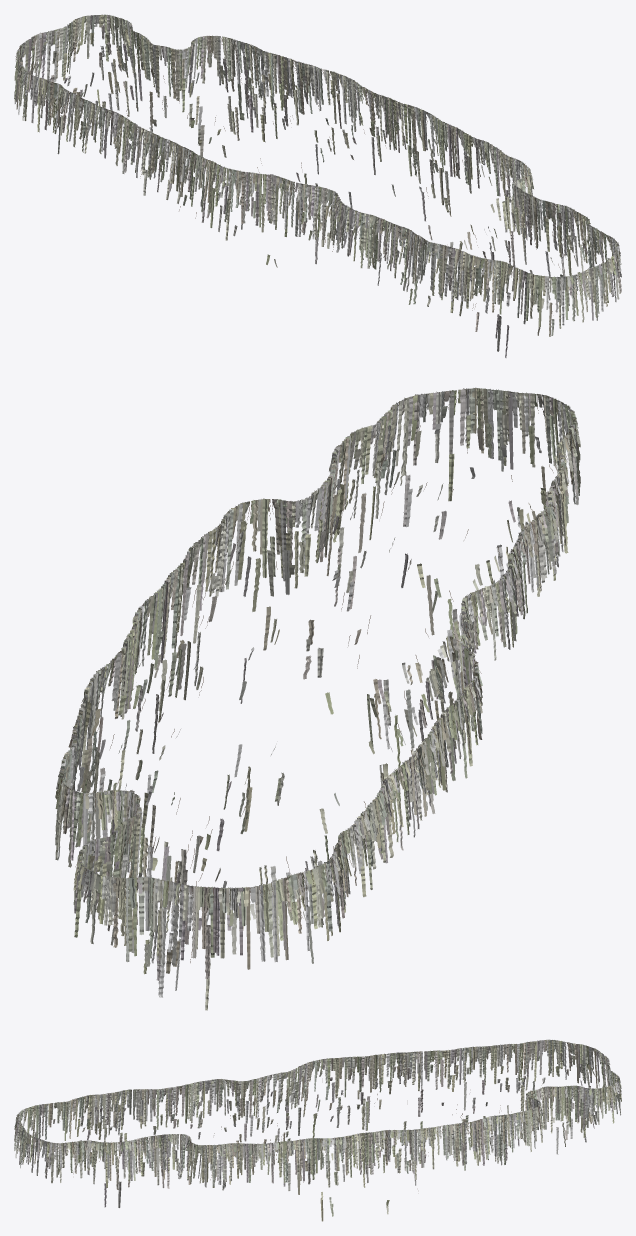
The model's file is SM_H18_Vines.fbx.
The picture shows the model from 3 angles, top to bottom: view 1: azimuth 30°, elevation 25°; view 2: azimuth 150°, elevation 25°; view 3: azimuth 270°, elevation 25°; orthographic projection. The views are drawn at different scales.
Parts seen in each view (by area): view 1: SM_H18_Vines; view 2: SM_H18_Vines; view 3: SM_H18_Vines.
Boxes of the visible parts, x1,y1,x2,y2 form: SM_H18_Vines: [14, 14, 621, 357]; SM_H18_Vines: [55, 387, 580, 1010]; SM_H18_Vines: [14, 1039, 621, 1221].
Bounding box in the file's own units: 168 × 86.79 × 399.
